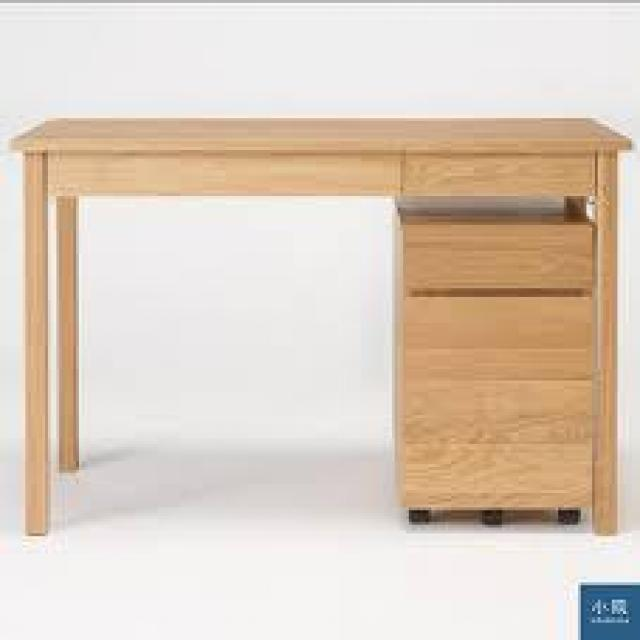table: (12, 79, 620, 552)
